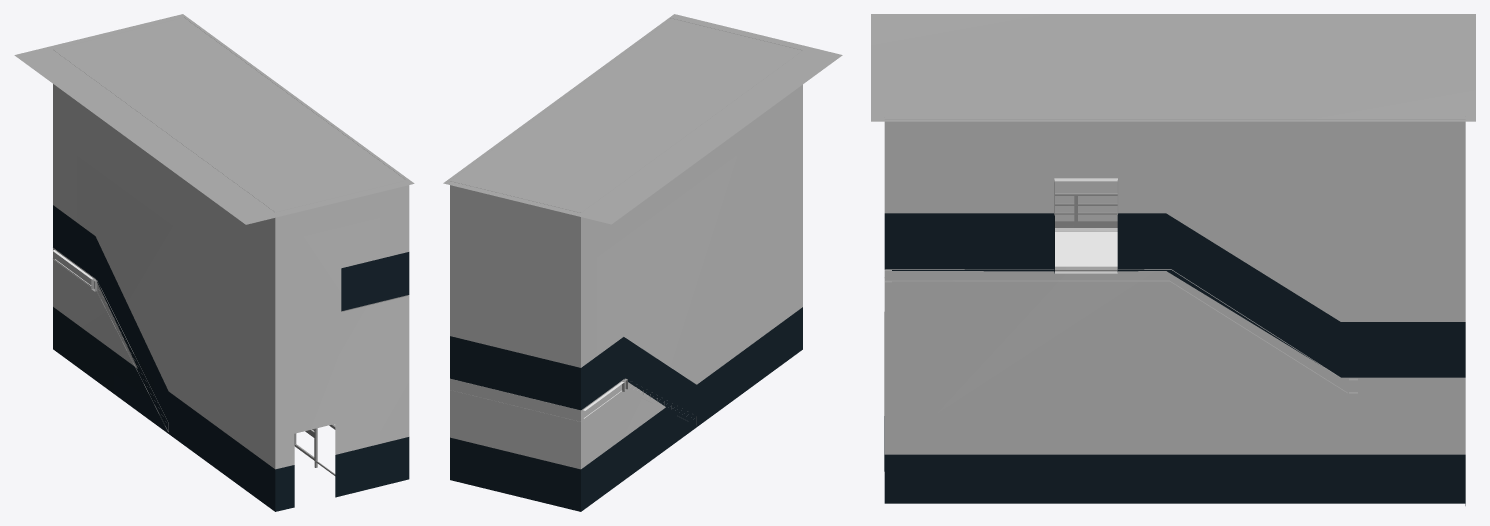
The model's file is SM_H_Building_Tide_Corridor_04G_ATLAS.fbx.
The picture shows the model from 3 angles, left to right: view 1: azimuth 30°, elevation 25°; view 2: azimuth 150°, elevation 25°; view 3: azimuth 270°, elevation 25°; orthographic projection. The views are drawn at different scales.
Parts seen in each view (by area): view 1: SM_H_Building_Tide_Corridor_04G_ATLAS; view 2: SM_H_Building_Tide_Corridor_04G_ATLAS; view 3: SM_H_Building_Tide_Corridor_04G_ATLAS.
Boxes of the visible parts, box(x1,y1,x2,y2) form: SM_H_Building_Tide_Corridor_04G_ATLAS: box(14, 14, 414, 511); SM_H_Building_Tide_Corridor_04G_ATLAS: box(443, 14, 842, 511); SM_H_Building_Tide_Corridor_04G_ATLAS: box(871, 14, 1475, 505).
Bounding box in the file's own units: 668 × 1577 × 1124.
